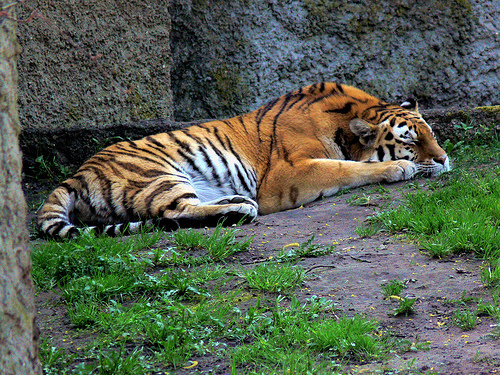Tigre: (58, 74, 459, 248)
